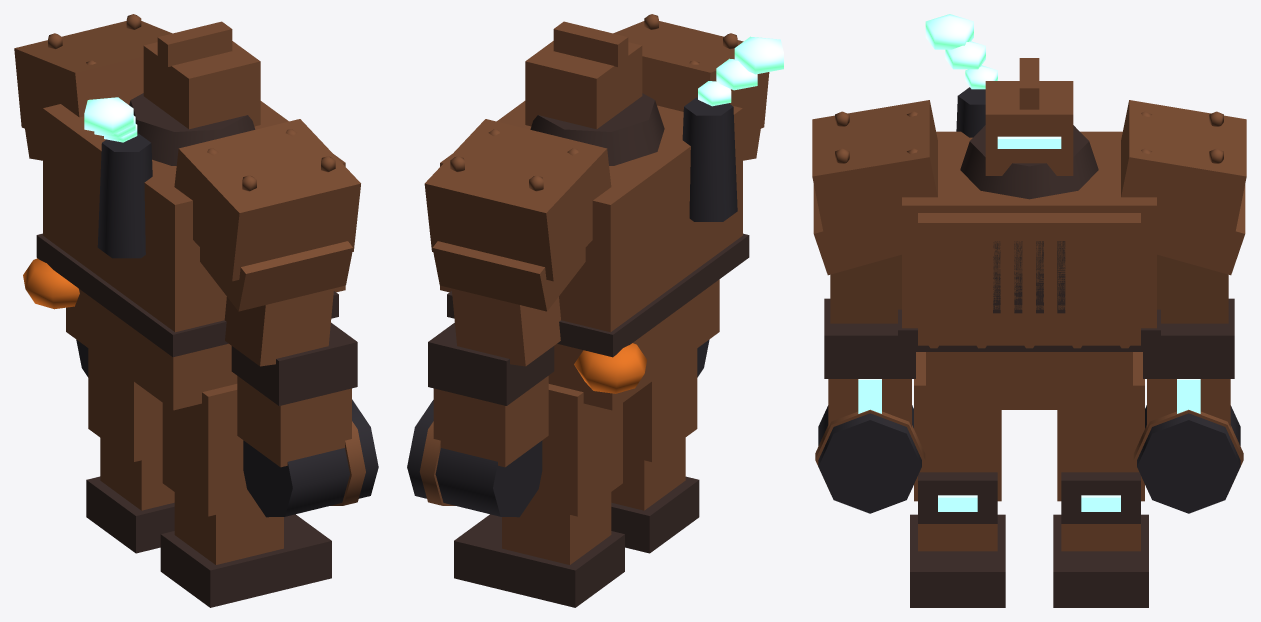
File: enemy_boss_iron.glb
3 renders of one model, left to right at view 1: azimuth 30°, elevation 25°; view 2: azimuth 150°, elevation 25°; view 3: azimuth 270°, elevation 25°, orthographic. The views are drawn at different scales.
Visible parts, largest first — view 1: pauldron_l, torso, pauldron_r, thigh_l, foot_l, hips, head, fist_l, arm_l_lower, arm_l_upper, pauldron_l_lower, deco_chimney (+11 smaller); view 2: pauldron_r, torso, thigh_r, foot_r, head, pauldron_l, arm_r_lower, fist_r, hips, arm_r_upper, pauldron_r_lower, deco_chimney (+13 smaller); view 3: chest_plate, pauldron_l, pauldron_r, torso, hips, fist_l, fist_r, head, thigh_l, thigh_r, foot_l, foot_r (+27 smaller).
Boxes of the visible parts, x1=… form: pauldron_l: x1=174, y1=119, x2=360, y2=281; torso: x1=43, y1=104, x2=274, y2=332; pauldron_r: x1=14, y1=21, x2=172, y2=135; thigh_l: x1=162, y1=384, x2=257, y2=516; foot_l: x1=160, y1=514, x2=331, y2=607; hips: x1=66, y1=289, x2=237, y2=410; head: x1=143, y1=41, x2=260, y2=129; fist_l: x1=243, y1=399, x2=378, y2=517; arm_l_lower: x1=237, y1=376, x2=351, y2=467; arm_l_upper: x1=224, y1=288, x2=333, y2=366; pauldron_l_lower: x1=200, y1=241, x2=353, y2=311; deco_chimney: x1=97, y1=133, x2=152, y2=258; pauldron_r: x1=424, y1=119, x2=611, y2=281; torso: x1=510, y1=105, x2=742, y2=332; thigh_r: x1=528, y1=384, x2=622, y2=516; foot_r: x1=454, y1=514, x2=624, y2=607; head: x1=525, y1=41, x2=642, y2=129; pauldron_l: x1=613, y1=21, x2=769, y2=135; arm_r_lower: x1=433, y1=376, x2=548, y2=467; fist_r: x1=407, y1=400, x2=542, y2=517; hips: x1=548, y1=279, x2=719, y2=410; arm_r_upper: x1=451, y1=288, x2=560, y2=366; pauldron_r_lower: x1=432, y1=241, x2=585, y2=311; deco_chimney: x1=682, y1=97, x2=737, y2=221; chest_plate: x1=918, y1=213, x2=1140, y2=345; pauldron_l: x1=812, y1=100, x2=937, y2=247; pauldron_r: x1=1121, y1=100, x2=1246, y2=247; torso: x1=902, y1=131, x2=1156, y2=328; hips: x1=926, y1=352, x2=1132, y2=409; fist_l: x1=818, y1=405, x2=921, y2=513; fist_r: x1=1137, y1=405, x2=1240, y2=513; head: x1=985, y1=81, x2=1073, y2=175; thigh_l: x1=914, y1=352, x2=1001, y2=501; thigh_r: x1=1057, y1=352, x2=1144, y2=501; foot_l: x1=910, y1=514, x2=1005, y2=607; foot_r: x1=1053, y1=514, x2=1148, y2=607.
Bounding box in the file's own units: 0.342 × 0.692 × 0.5455.
